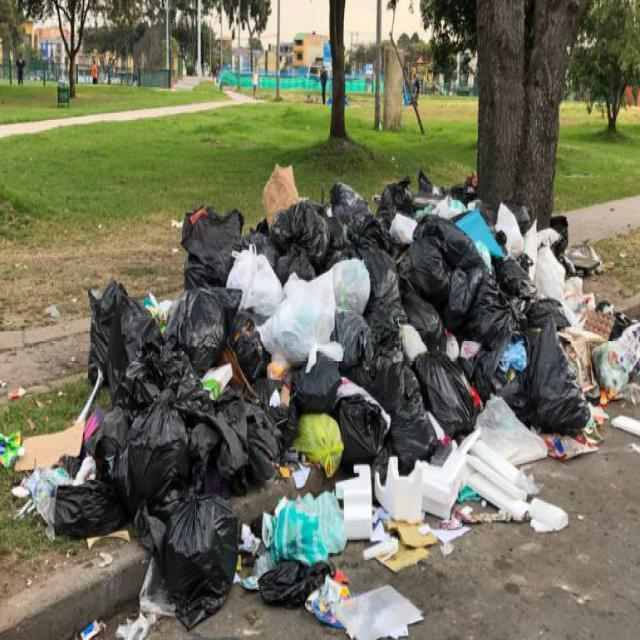Trashbag: (154, 501, 240, 629), (185, 395, 281, 494), (526, 328, 592, 429), (127, 406, 191, 504), (178, 204, 245, 294), (382, 366, 436, 471), (439, 270, 516, 340), (74, 288, 129, 384), (124, 348, 200, 415), (421, 354, 476, 434), (48, 479, 122, 536), (356, 245, 404, 328), (394, 232, 450, 299), (252, 556, 326, 606), (180, 289, 228, 359), (332, 394, 379, 462), (286, 357, 340, 416), (270, 201, 332, 251), (372, 182, 420, 222), (324, 180, 368, 216)
